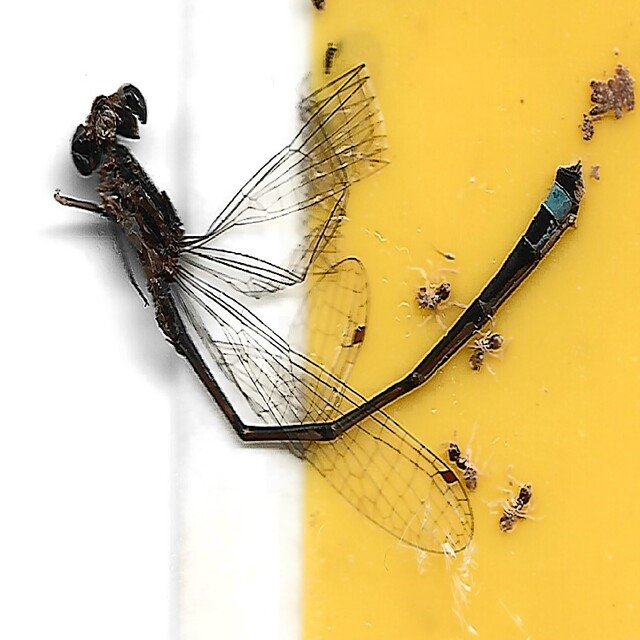Hymenoptera: (445, 434, 479, 495), (497, 481, 536, 534), (469, 326, 507, 374), (414, 273, 452, 318)
Odonata: (54, 84, 586, 556)
